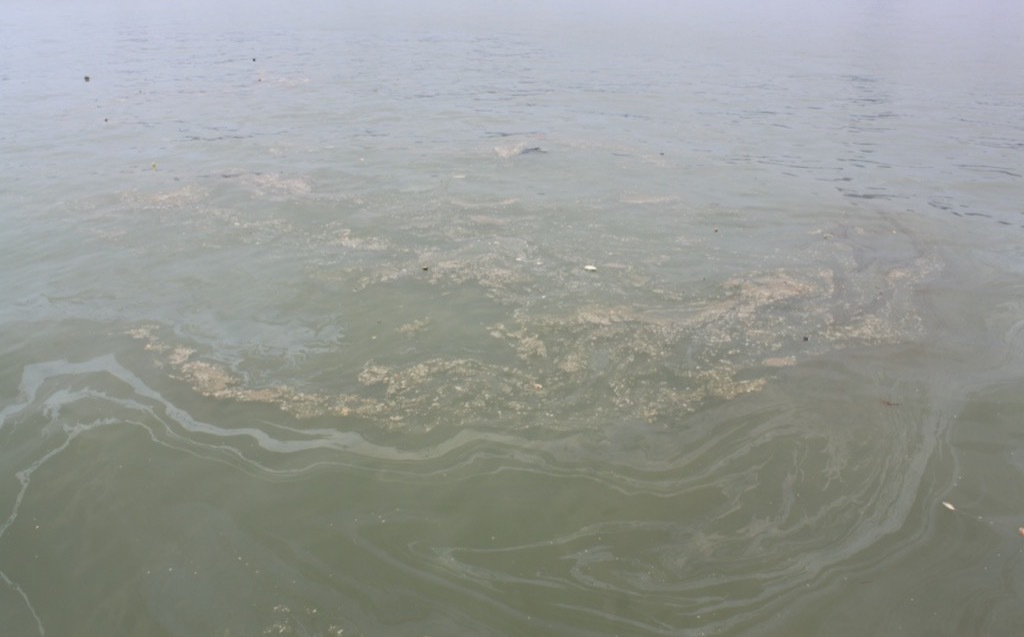organic: (75, 65, 104, 88), (95, 111, 118, 129), (245, 52, 266, 68), (253, 70, 273, 85)
plastic: (569, 249, 610, 286), (408, 253, 443, 288)
